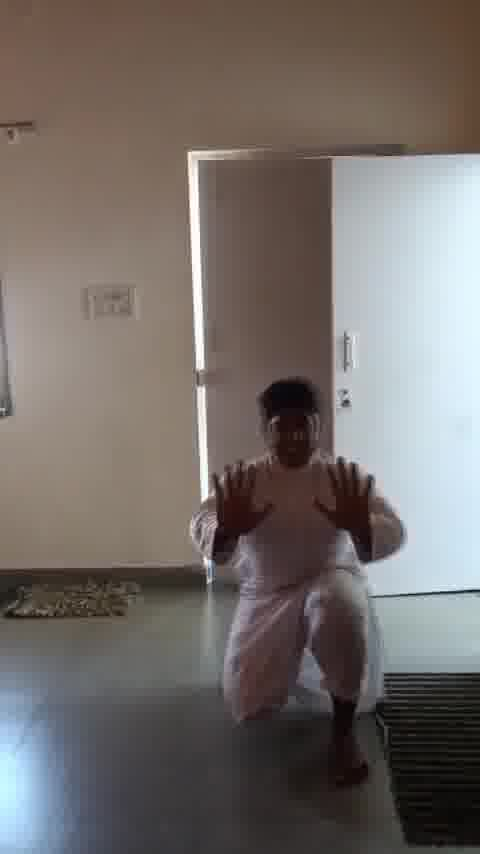duck: (178, 376, 420, 785)
